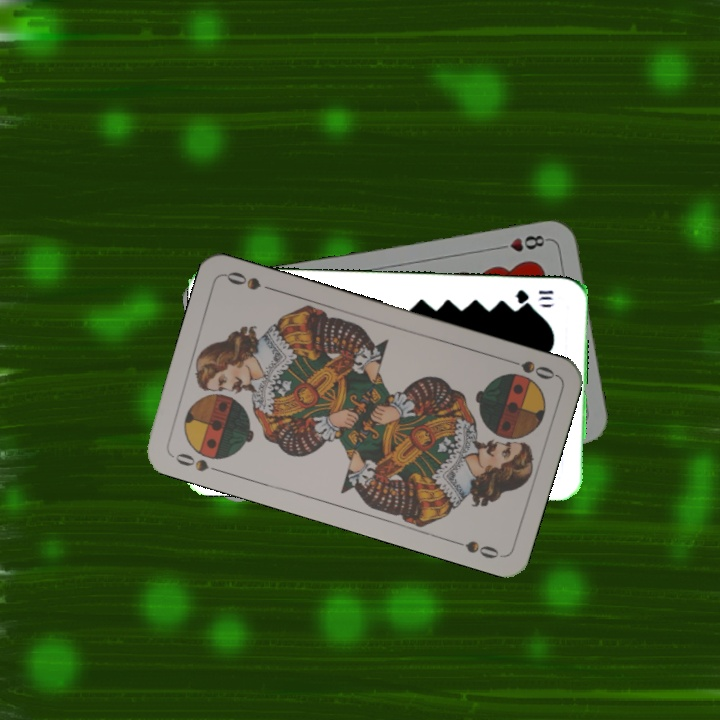G10: (512, 286, 556, 306)
H8: (493, 231, 552, 254)
SO: (500, 354, 558, 383), (168, 449, 225, 476)
